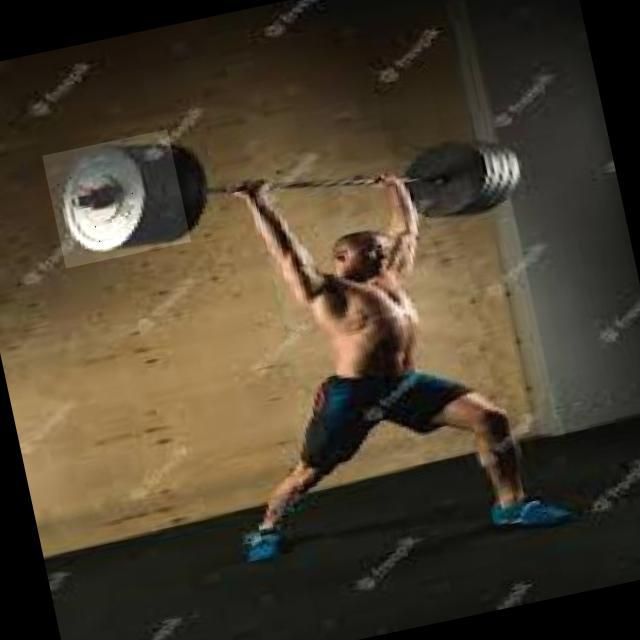barbell: (43, 130, 192, 269)
